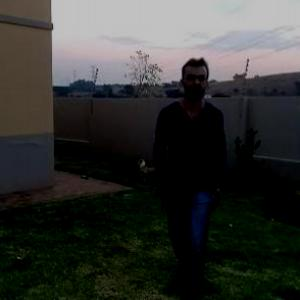follow: (150, 59, 222, 299)
